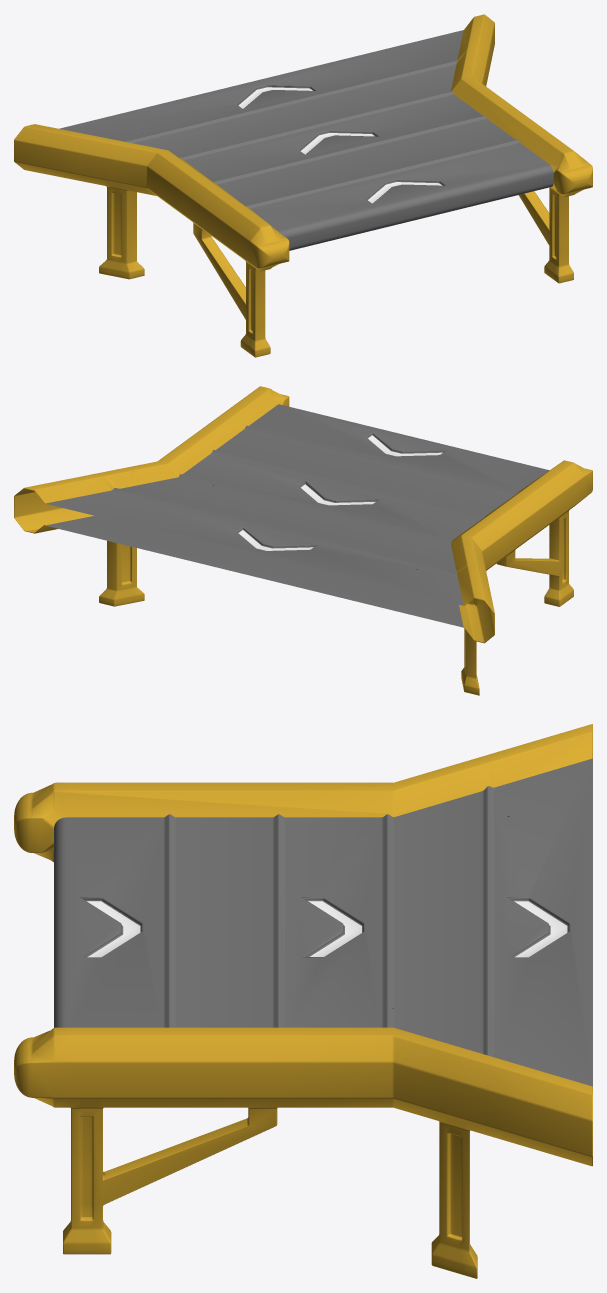
File: FurnaceEntrance.fbx
The picture shows the model from 3 angles, top to bottom: view 1: azimuth 30°, elevation 25°; view 2: azimuth 150°, elevation 25°; view 3: azimuth 270°, elevation 25°; orthographic projection. The views are drawn at different scales.
Parts seen in each view (by area): view 1: Cube; view 2: Cube; view 3: Cube.
Part boxes in pixels (box(x1,y1,x2,y2)): Cube: box(14, 14, 592, 357); Cube: box(14, 386, 592, 695); Cube: box(14, 724, 592, 1278).
Size of the model in its own units: 459 by 120 by 290.
